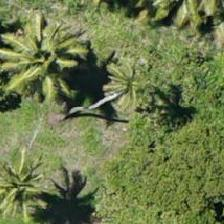coconut_tree: (9, 18, 99, 108), (75, 38, 165, 128), (0, 147, 55, 223)
